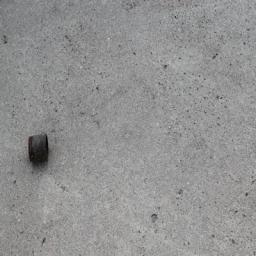FOD: (27, 130, 55, 169)
